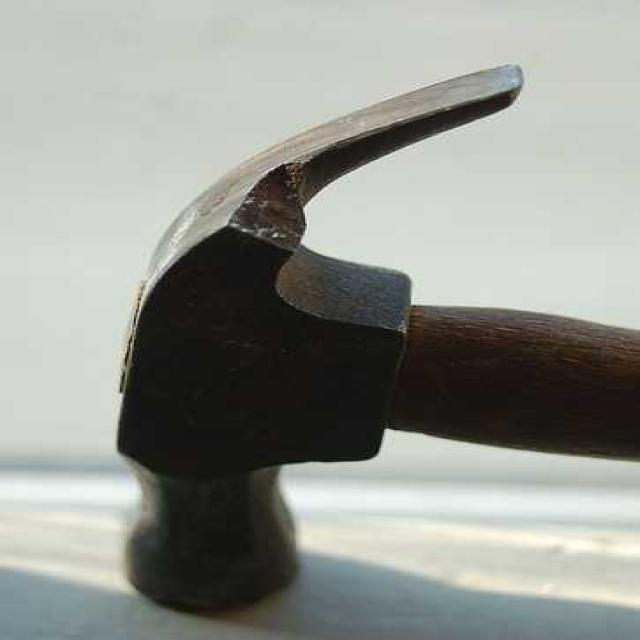hammer: (110, 68, 640, 640)
